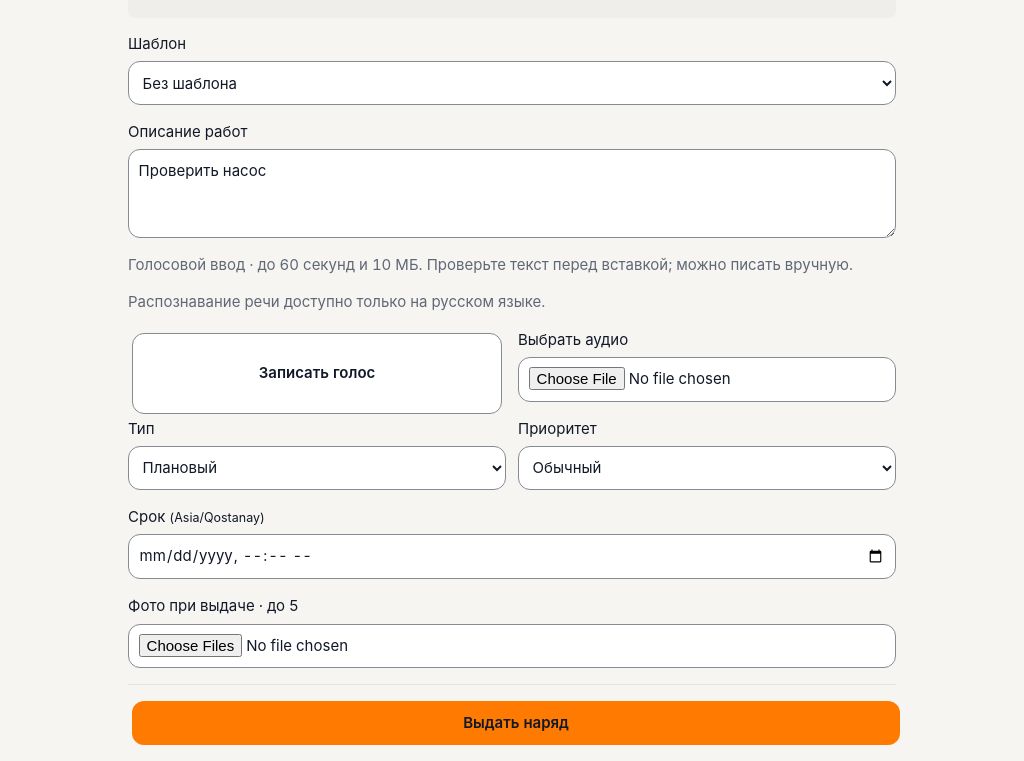
Test: leaves a manually cleared deadline empty instead of silently restoring the initial default
Earlier steps of the test are not shown.
(page scrolled)
Clear the field labelled "Срок (Asia/Qostanay)": (512, 557) top-left (128, 534), bottom-right (896, 580)
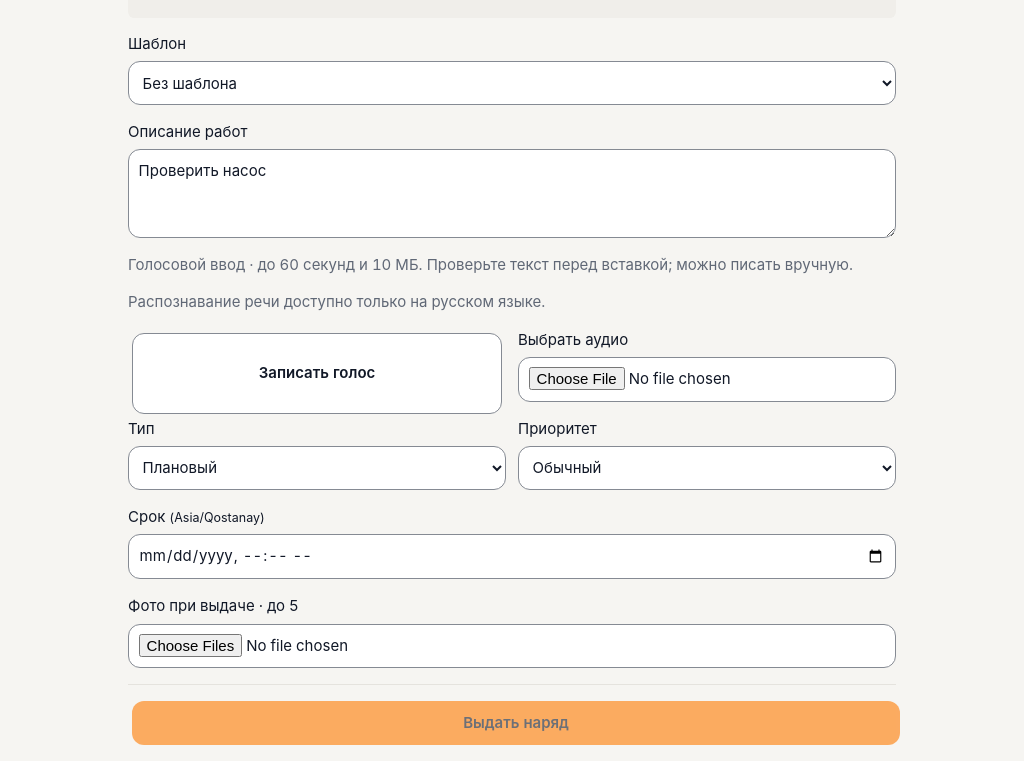
Expected: the button "Выдать наряд" is disabled, top-left (132, 701), bottom-right (900, 745)
